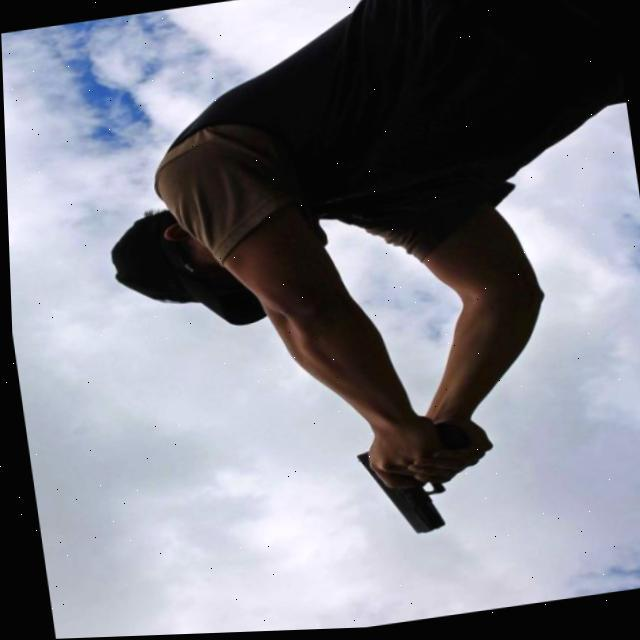gun: (350, 441, 450, 545)
